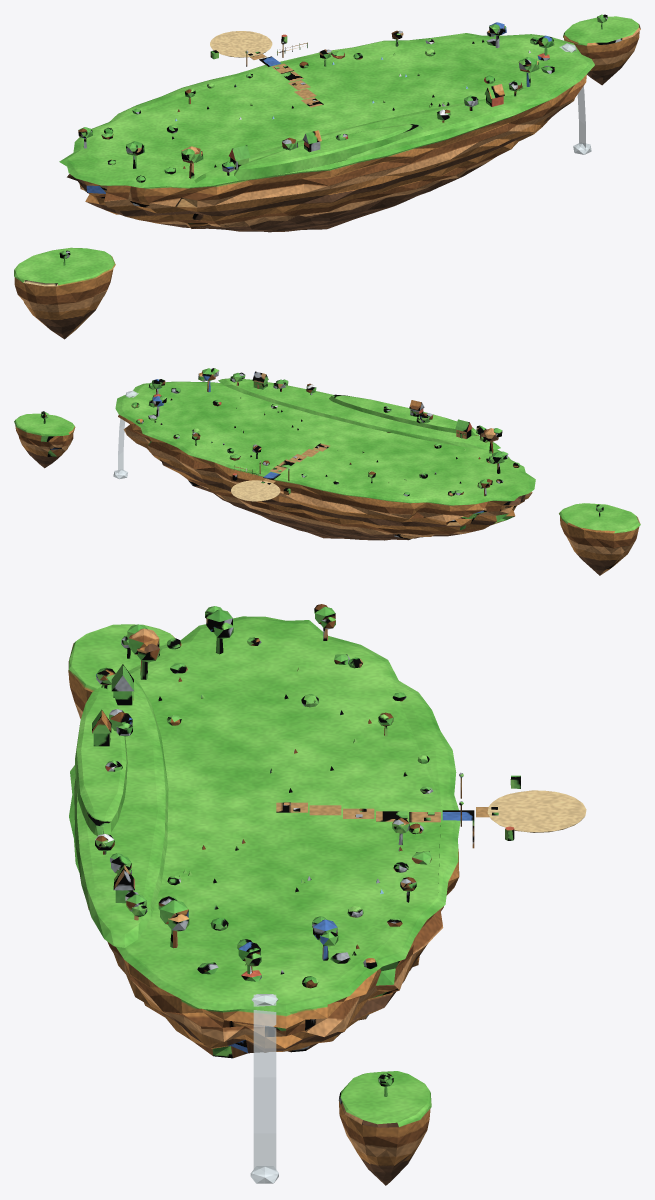
The model's file is Island_Sunnyville_LOD1.fbx.
3 renders of one model, top to bottom at view 1: azimuth 30°, elevation 25°; view 2: azimuth 150°, elevation 25°; view 3: azimuth 270°, elevation 25°, orthographic. The views are drawn at different scales.
Parts seen in each view (by area): view 1: Island_Sunnyville_Mesh, Island_Sunnyville, VFX_Waterfall_Placeholder; view 2: Island_Sunnyville_Mesh, Island_Sunnyville, VFX_Waterfall_Placeholder; view 3: Island_Sunnyville_Mesh, Island_Sunnyville, VFX_Waterfall_Placeholder.
Boxes of the visible parts, x1,y1,x2,y2 form: Island_Sunnyville_Mesh: [59, 22, 594, 232]; Island_Sunnyville: [14, 14, 640, 339]; VFX_Waterfall_Placeholder: [559, 43, 591, 154]; Island_Sunnyville_Mesh: [115, 368, 535, 540]; Island_Sunnyville: [14, 411, 640, 575]; VFX_Waterfall_Placeholder: [113, 390, 138, 479]; Island_Sunnyville_Mesh: [69, 604, 586, 1058]; Island_Sunnyville: [68, 624, 431, 1185]; VFX_Waterfall_Placeholder: [250, 994, 278, 1183].
Size of what is drawn, in the model's own units: 84.99 by 18.28 by 34.28.
2 materials, 1 textured.
